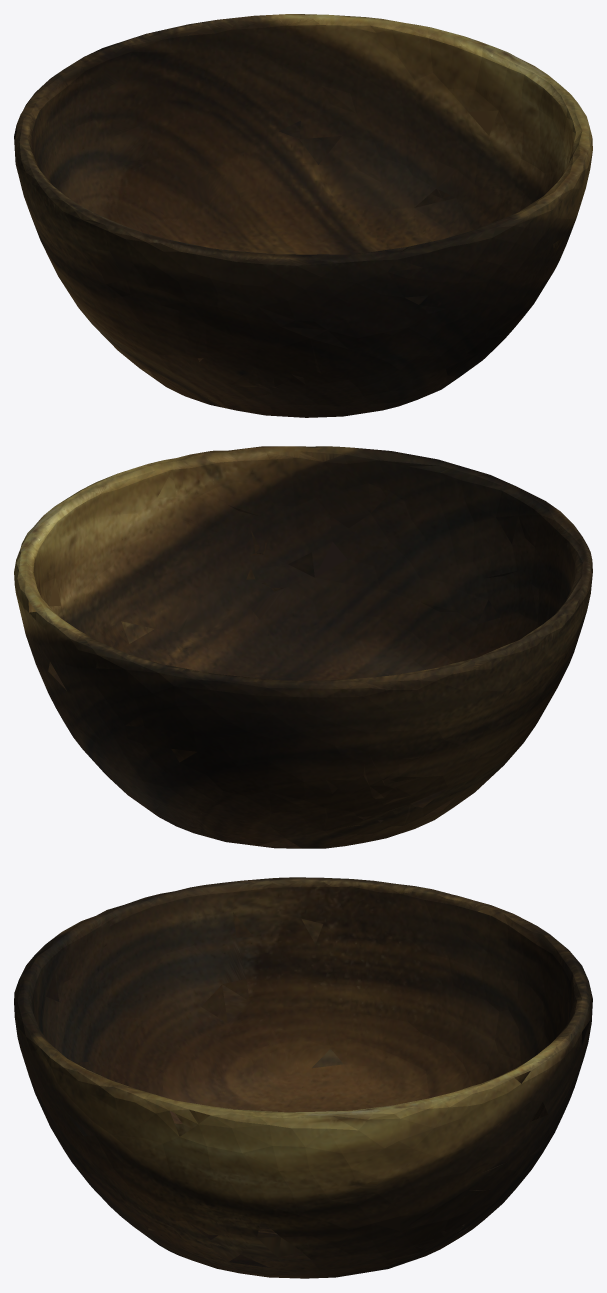
The model's file is salad_bowl.dae.
3 renders of one model, top to bottom at view 1: azimuth 30°, elevation 25°; view 2: azimuth 150°, elevation 25°; view 3: azimuth 270°, elevation 25°, orthographic.
Visible parts, largest first — view 1: Bawl; view 2: Bawl; view 3: Bawl.
Part boxes in pixels (x1,y1,x2,y2): Bawl: (14,14,592,417); Bawl: (14,446,592,848); Bawl: (14,877,592,1278).
Bounding box in the file's own units: 0.201 × 0.2024 × 0.0848.
1 material, 1 textured.
